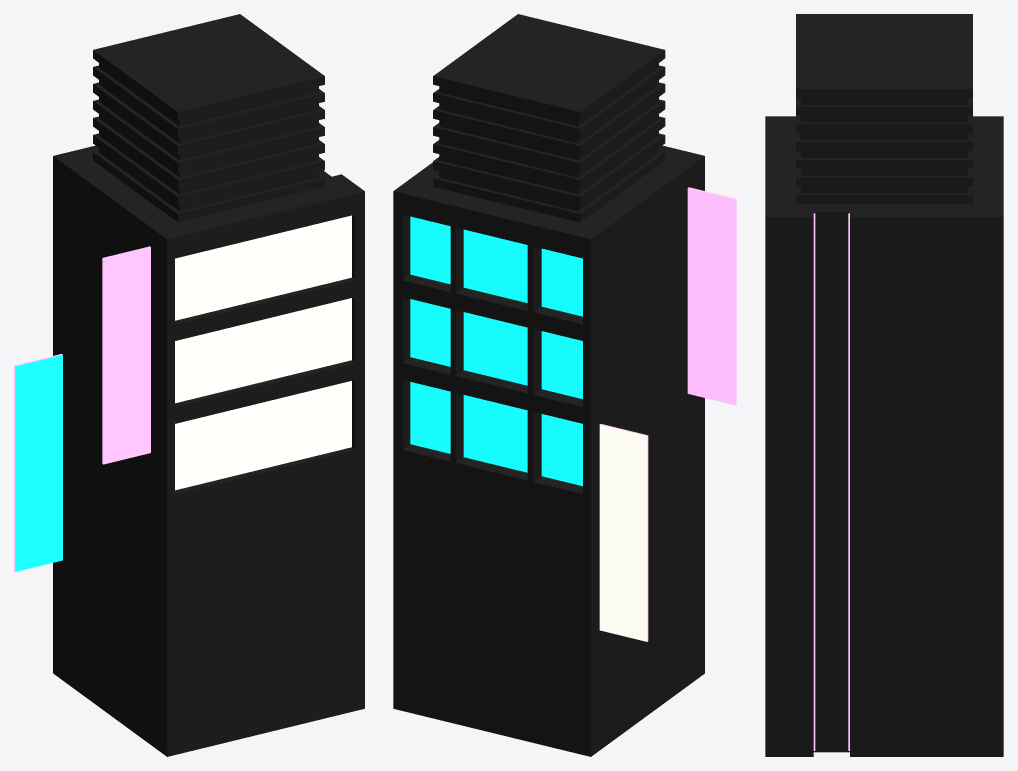
Rendered from Palazzo_05.fbx.
3 renders of one model, left to right at view 1: azimuth 30°, elevation 25°; view 2: azimuth 150°, elevation 25°; view 3: azimuth 270°, elevation 25°, orthographic. The views are drawn at different scales.
Visible parts, largest first — view 1: 06_Ed.001; view 2: 06_Ed.001; view 3: 06_Ed.001.
Part boxes in pixels (box(x1,y1,x2,y2)): 06_Ed.001: box(14, 14, 364, 756); 06_Ed.001: box(393, 14, 736, 756); 06_Ed.001: box(765, 14, 1003, 756).
Size of the model in its own units: 8.69 by 7 by 21.26.
